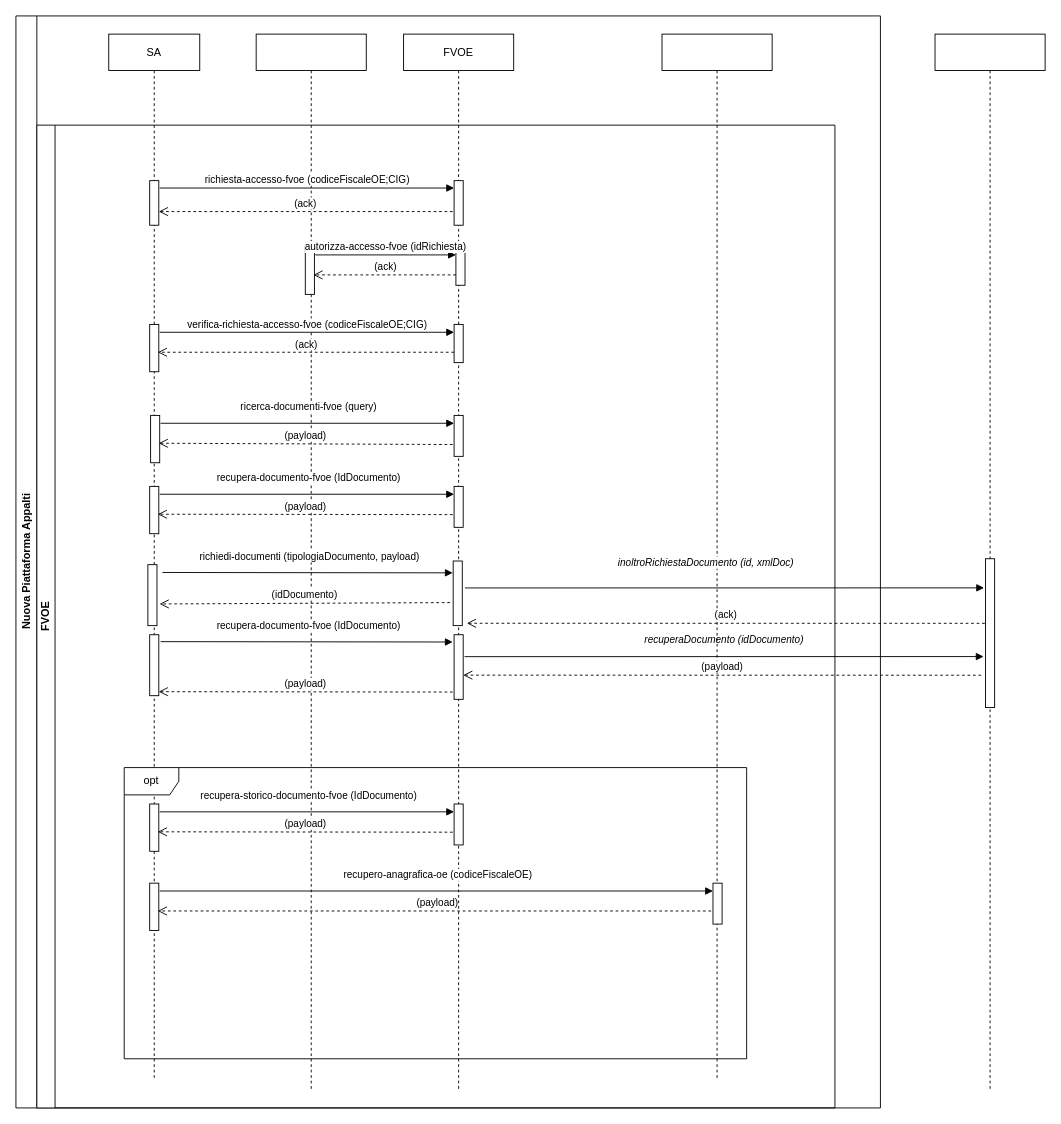
The diagram is 1061 pixels wide and 1124 high, and some of its shapes have lost their labels. Each missing label, with the box of its shape:
ANAGRAFICA OE: (661, 33, 772, 1081)
ENTI CERTIFICATORI: (934, 33, 1045, 1090)
OE: (255, 33, 366, 1090)
